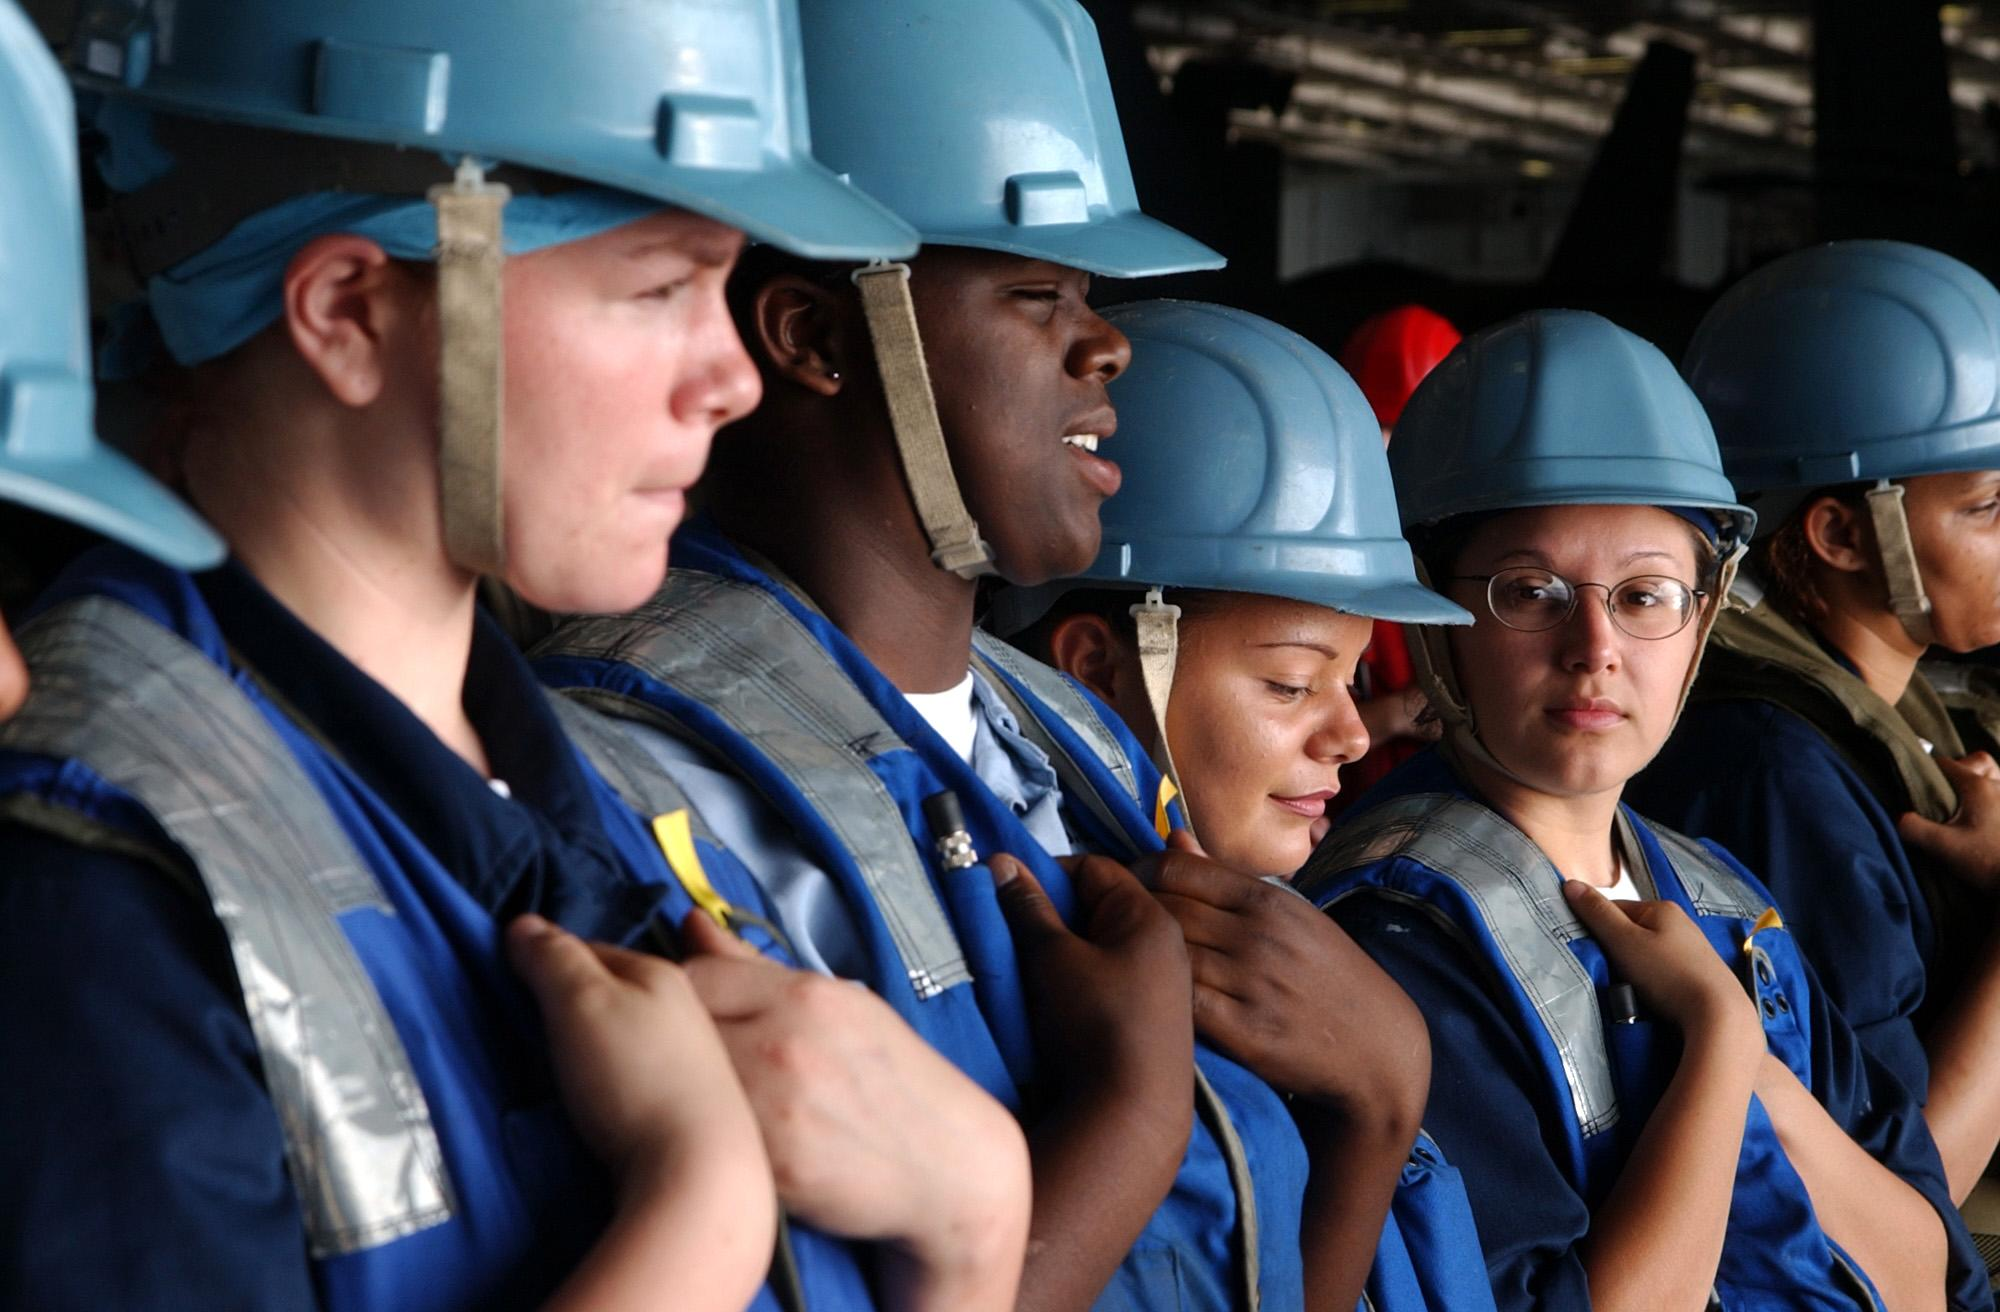helmet: (67, 1, 934, 264), (1075, 286, 1482, 637), (1, 1, 231, 577), (799, 1, 1253, 291), (1394, 310, 1757, 542), (1693, 234, 2000, 496)
